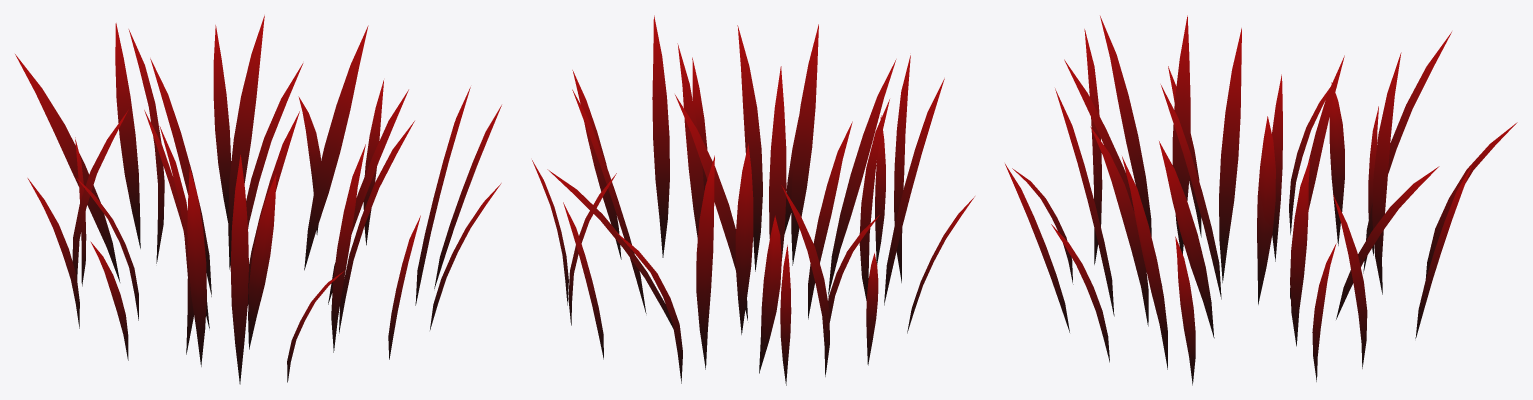
The model's file is Grass_LOD0.fbx.
3 renders of one model, left to right at view 1: azimuth 30°, elevation 25°; view 2: azimuth 150°, elevation 25°; view 3: azimuth 270°, elevation 25°, orthographic. The views are drawn at different scales.
Parts seen in each view (by area): view 1: Grass; view 2: Grass; view 3: Grass.
Part boxes in pixels (x1,y1,x2,y2): Grass: [15, 15, 501, 384]; Grass: [532, 15, 974, 385]; Grass: [1005, 15, 1517, 385].
Bounding box in the file's own units: 254 × 138 × 272.
